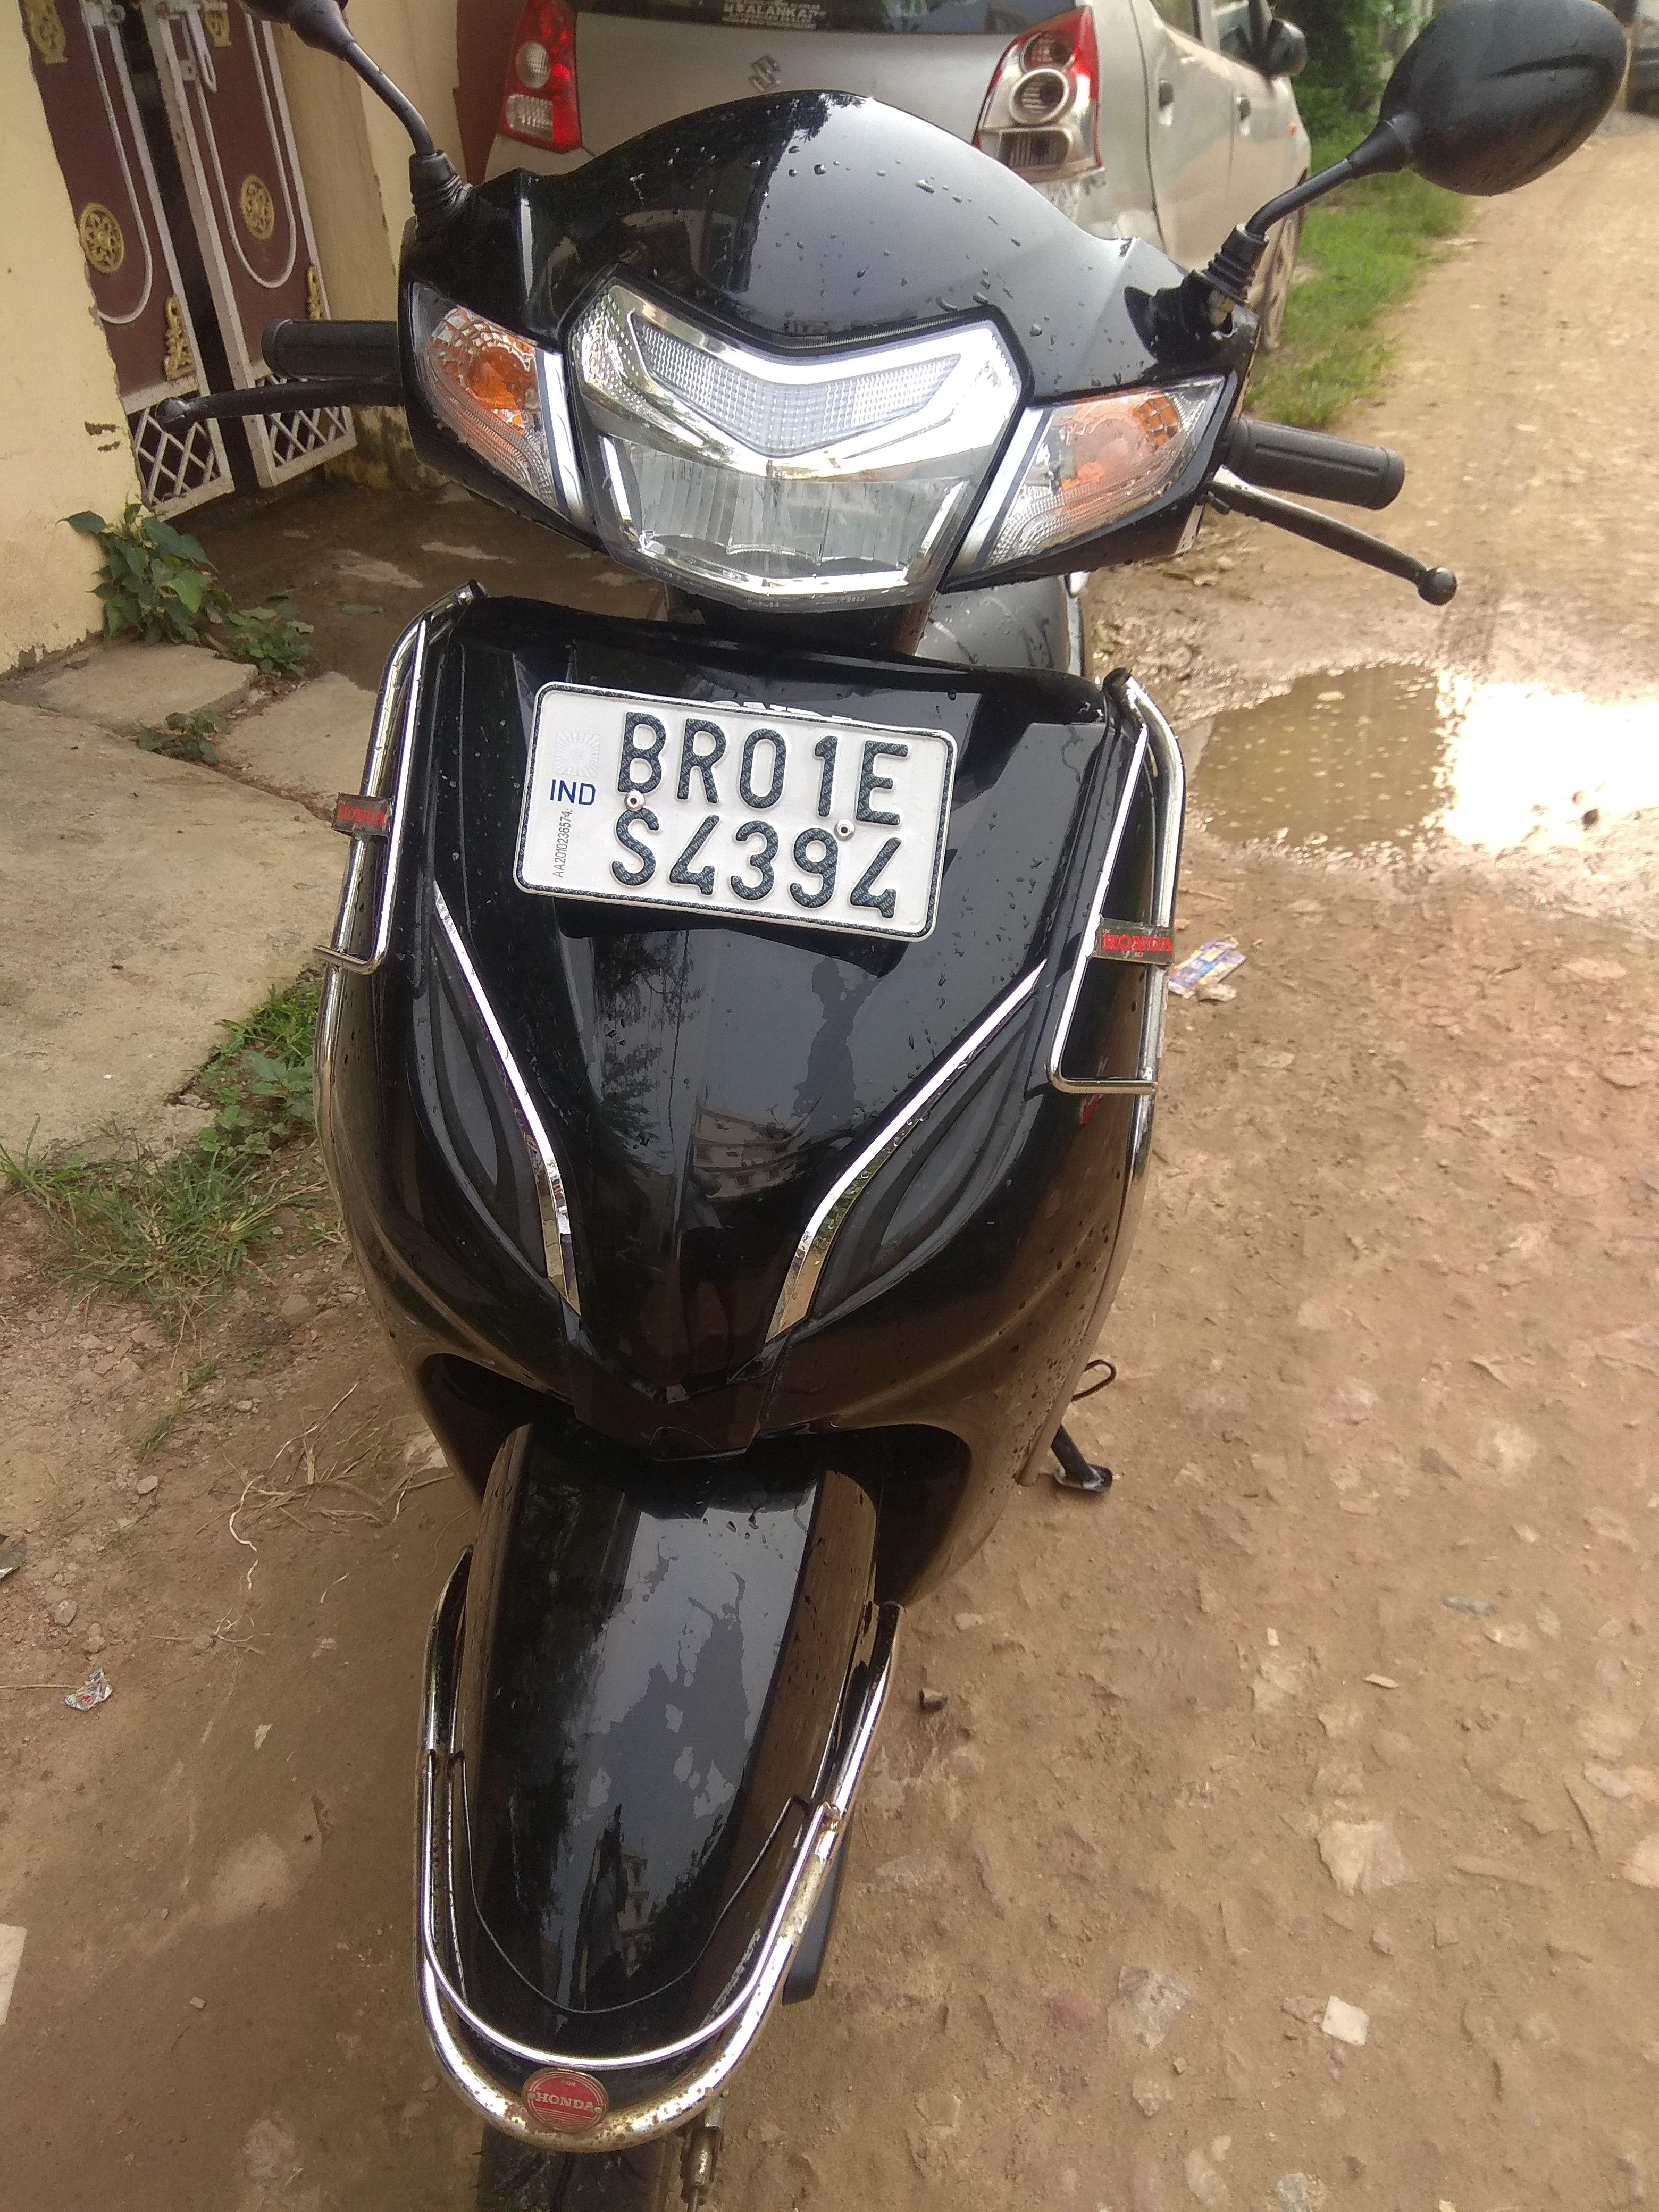doublelinenumberplate: (521, 670, 950, 957)
